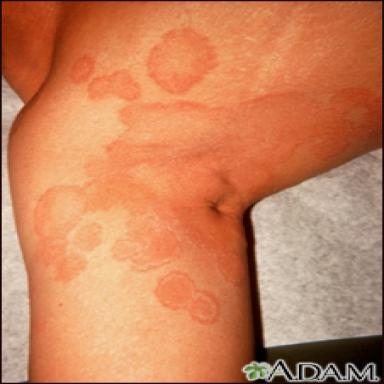Tinea-Corporis: (82, 87, 379, 288), (35, 185, 86, 281), (147, 28, 217, 94), (111, 213, 181, 271), (155, 271, 218, 324), (87, 70, 140, 101), (70, 55, 94, 83), (76, 235, 101, 251)
